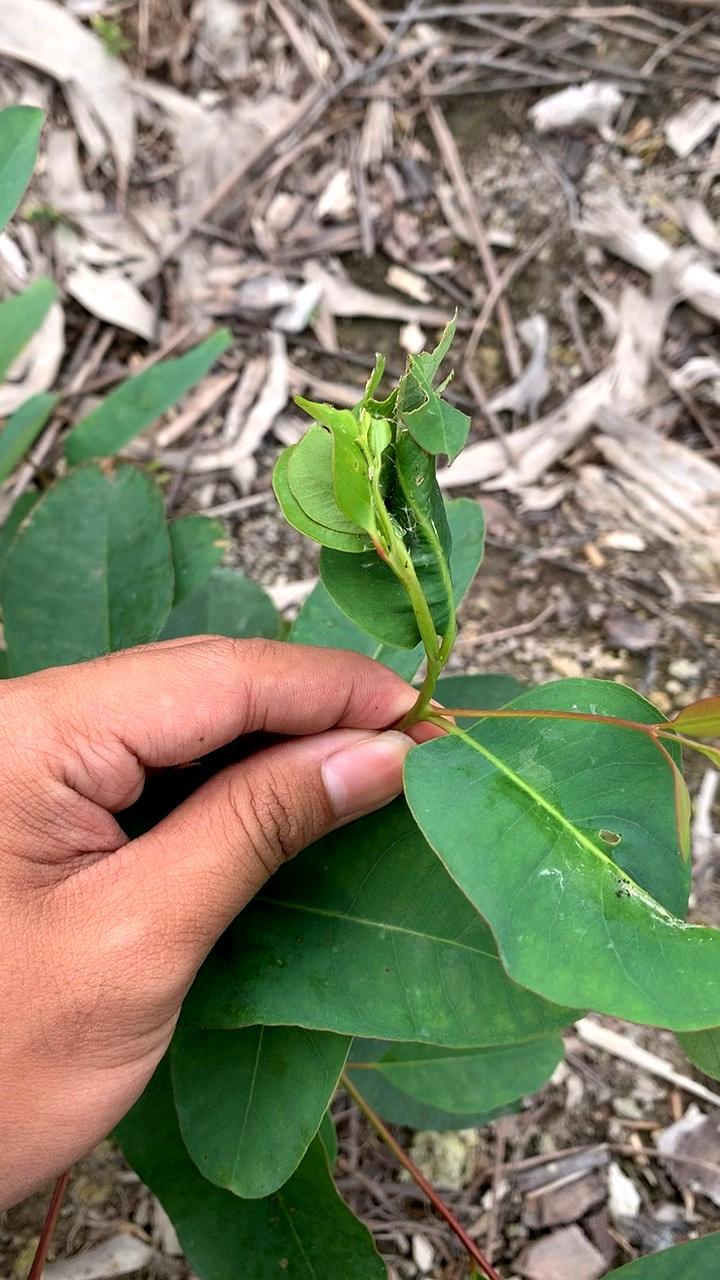Leaf Roller - Leaf: (273, 348, 483, 653)
